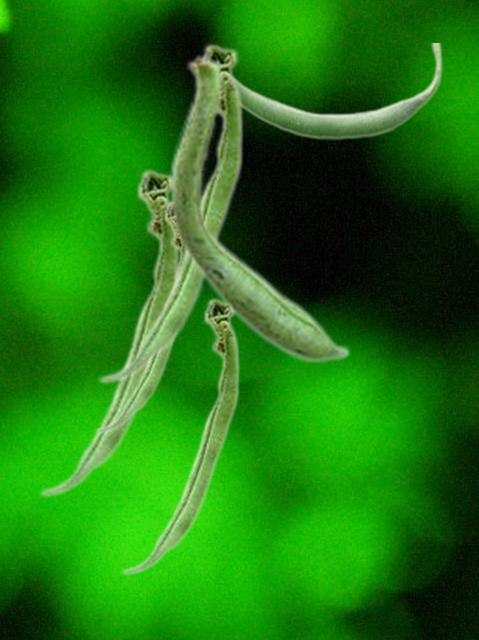french_bean: (169, 52, 350, 363), (97, 41, 243, 384), (38, 167, 177, 497), (120, 296, 239, 575), (94, 200, 182, 433), (236, 43, 442, 140)
